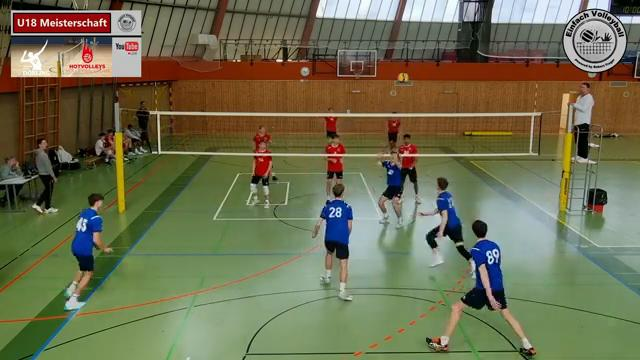Player: (426, 220, 535, 355), (64, 193, 111, 309), (419, 177, 474, 276), (312, 184, 352, 300), (399, 134, 421, 203), (250, 142, 271, 208), (325, 134, 345, 202), (253, 125, 270, 150), (387, 117, 400, 148), (324, 116, 336, 138)
Set: (374, 143, 407, 231)
ball: (397, 71, 409, 83)
